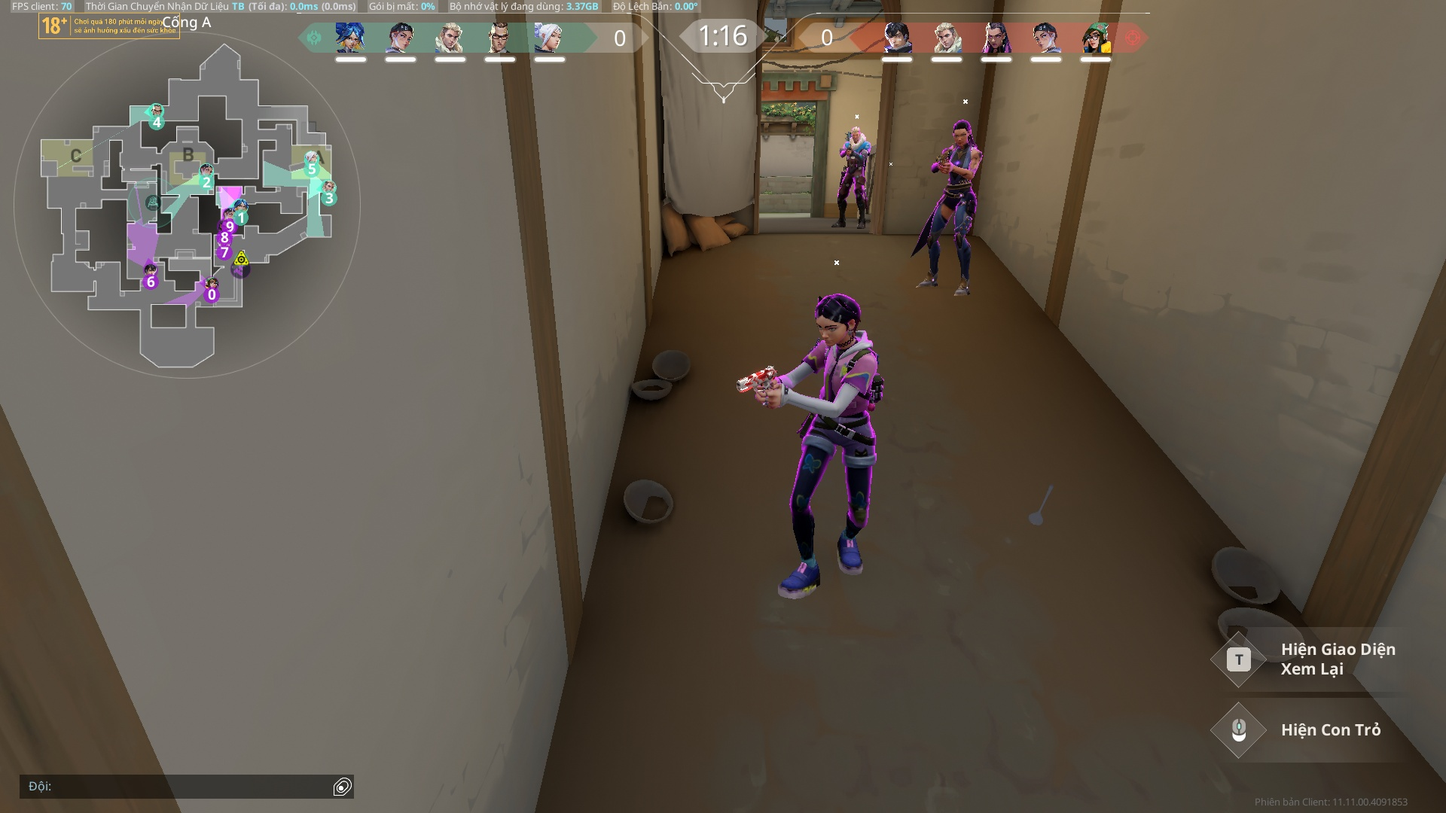body: (810, 337, 880, 428), (941, 146, 982, 190), (845, 139, 869, 169)
head: (813, 295, 867, 344), (953, 121, 972, 145), (851, 126, 861, 141)
